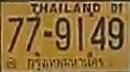1: (78, 16, 83, 50)
4: (90, 16, 105, 50)
7: (7, 16, 23, 52), (26, 16, 40, 51)
9: (107, 16, 123, 49), (55, 16, 70, 50)
BKK: (22, 54, 106, 72)
